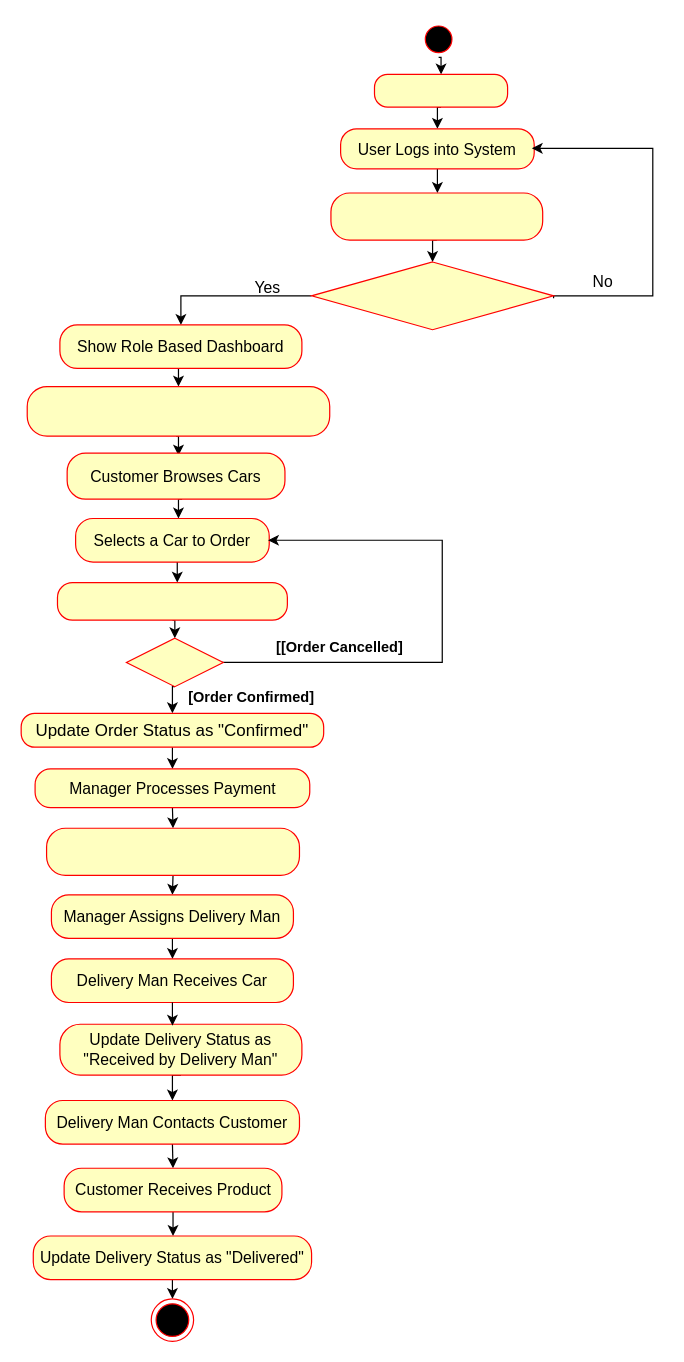
This 684x1362 diagram has some shape labels left out. Each missing label, with the centre of its shape:
"Admin adds Cars, Managers and Delivery Personnel to System" goes at (178,410).
"Authentication Successful?" goes at (432,295).
"Manager Processes the Order" goes at (171,600).
"Open System" goes at (440,90).
"System Authenticates User" goes at (436,216).
"System Generates Sales Report" goes at (172,851).
